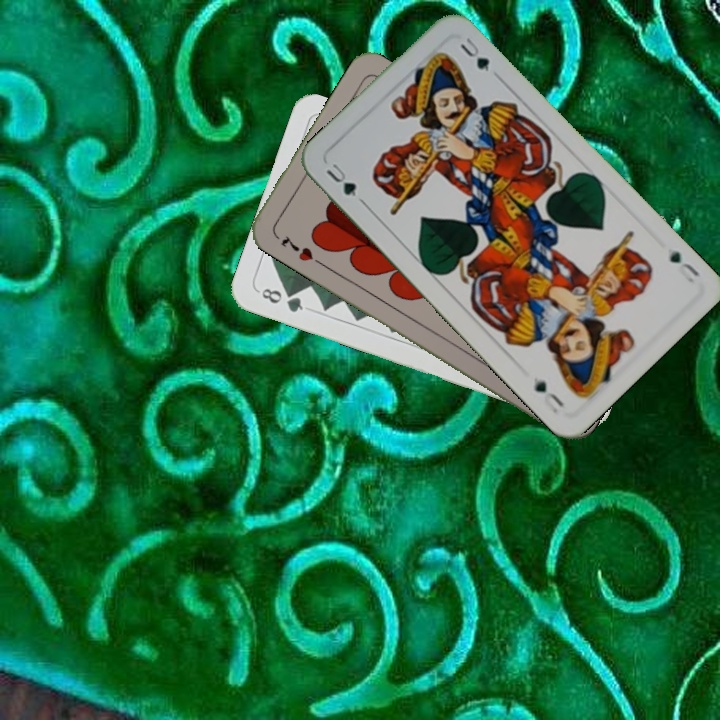G8: (254, 284, 306, 315)
GU: (322, 157, 367, 206), (665, 245, 703, 286)
H7: (277, 231, 316, 264)
